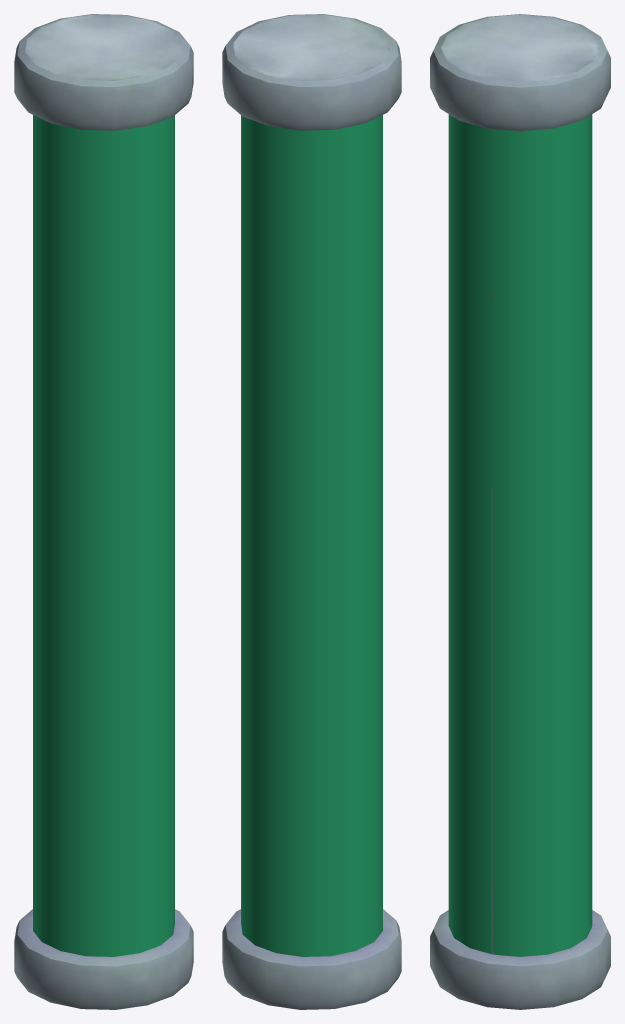
File: Intact_Pipes.glb
3 renders of one model, left to right at view 1: azimuth 30°, elevation 25°; view 2: azimuth 150°, elevation 25°; view 3: azimuth 270°, elevation 25°, orthographic.
Parts seen in each view (by area): view 1: Intact_Pipe; view 2: Intact_Pipe; view 3: Intact_Pipe.
Boxes of the visible parts, x1,y1,x2,y2 form: Intact_Pipe: (14,14,193,1009); Intact_Pipe: (222,14,401,1009); Intact_Pipe: (430,14,610,1009).
Size of the model in its own units: 0.2226 by 1.26 by 0.2226.
Materials: 1 (1 with a texture image).
